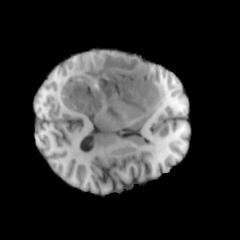glioma: (58, 51, 165, 125)
